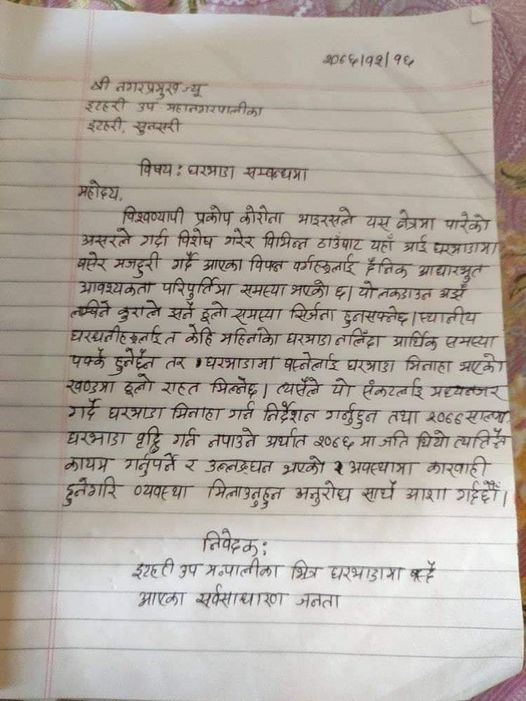text: (205, 479, 286, 510), (195, 583, 288, 610), (69, 325, 163, 347), (64, 476, 123, 509), (321, 51, 416, 71), (163, 101, 267, 119), (161, 276, 238, 300), (206, 558, 284, 581), (292, 253, 360, 279), (295, 480, 354, 508), (341, 304, 409, 328), (77, 278, 157, 298), (362, 377, 425, 402), (417, 261, 488, 283), (201, 529, 258, 556), (426, 454, 490, 478), (109, 348, 161, 377), (429, 385, 507, 404), (324, 403, 381, 429), (327, 564, 405, 583), (347, 458, 419, 478), (118, 205, 186, 226), (123, 452, 180, 477), (296, 206, 356, 229), (262, 400, 319, 424), (220, 326, 282, 348), (283, 351, 342, 374), (241, 163, 312, 182), (418, 306, 482, 327), (114, 79, 181, 99), (452, 427, 510, 450), (114, 251, 161, 279), (203, 354, 280, 371), (203, 458, 275, 476), (209, 375, 260, 400), (207, 426, 260, 450), (66, 429, 132, 448), (132, 483, 194, 503), (230, 305, 283, 327), (444, 211, 492, 235), (456, 479, 500, 505), (457, 352, 506, 375), (170, 402, 223, 423), (365, 256, 413, 279), (116, 299, 162, 323), (184, 162, 238, 182), (80, 228, 134, 248), (334, 327, 383, 349), (132, 557, 175, 582), (378, 283, 434, 302), (432, 241, 498, 257), (403, 354, 453, 375), (239, 204, 286, 226), (277, 376, 324, 398), (288, 302, 337, 323), (131, 117, 185, 136), (395, 209, 437, 233), (107, 404, 166, 421), (261, 230, 311, 250), (76, 180, 121, 202), (176, 227, 219, 250), (391, 330, 438, 351), (316, 231, 365, 251), (282, 455, 326, 477), (361, 477, 399, 502), (135, 156, 174, 180), (265, 427, 309, 448), (345, 357, 396, 375), (65, 377, 116, 395), (195, 204, 236, 226), (82, 115, 127, 135), (137, 591, 187, 609), (83, 96, 130, 115), (295, 592, 342, 611), (248, 254, 290, 275), (444, 334, 498, 350), (404, 485, 452, 503), (289, 279, 330, 300), (69, 347, 106, 370), (67, 397, 102, 421), (134, 424, 162, 454), (69, 300, 113, 319), (123, 373, 156, 398), (285, 331, 333, 348), (464, 407, 509, 425), (75, 250, 110, 273), (64, 456, 113, 472), (239, 283, 287, 299), (185, 324, 217, 347), (200, 257, 245, 273), (223, 228, 257, 249), (313, 434, 355, 451), (416, 429, 450, 450), (425, 408, 464, 426), (161, 380, 202, 397), (289, 560, 322, 581), (171, 427, 201, 450), (138, 228, 170, 249), (200, 301, 229, 324), (180, 80, 212, 100), (385, 409, 422, 426), (410, 560, 437, 583), (438, 282, 469, 302), (166, 301, 197, 321), (171, 251, 199, 273), (377, 430, 411, 448), (227, 401, 256, 421), (368, 234, 398, 253), (331, 378, 356, 399), (403, 234, 429, 254), (364, 213, 392, 231), (178, 561, 203, 580), (133, 99, 160, 115), (164, 354, 188, 371), (358, 280, 377, 301), (89, 76, 111, 93), (164, 330, 181, 346), (334, 283, 348, 301), (358, 434, 376, 448), (184, 458, 199, 474)
